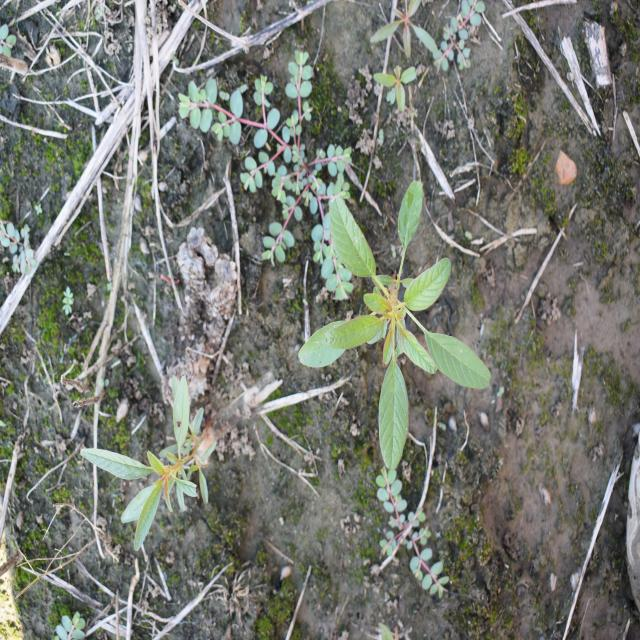SpottedSpurge: (177, 48, 356, 304), (374, 468, 451, 602), (431, 0, 486, 71), (0, 218, 38, 278), (51, 610, 87, 639), (1, 23, 17, 61)
Waterhemp: (297, 178, 492, 470), (78, 373, 220, 554), (366, 0, 439, 60), (372, 62, 419, 114)
